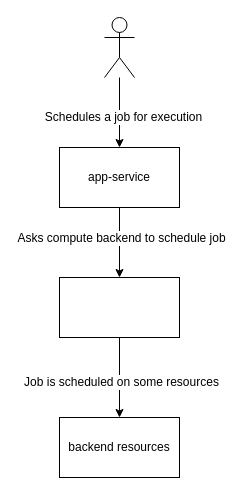
Image size: 242x495. Some labels were removed from this diagram. Each missing label, with the box of its shape:
compute backend: (58, 276, 180, 338)
End-user: (104, 16, 134, 78)
